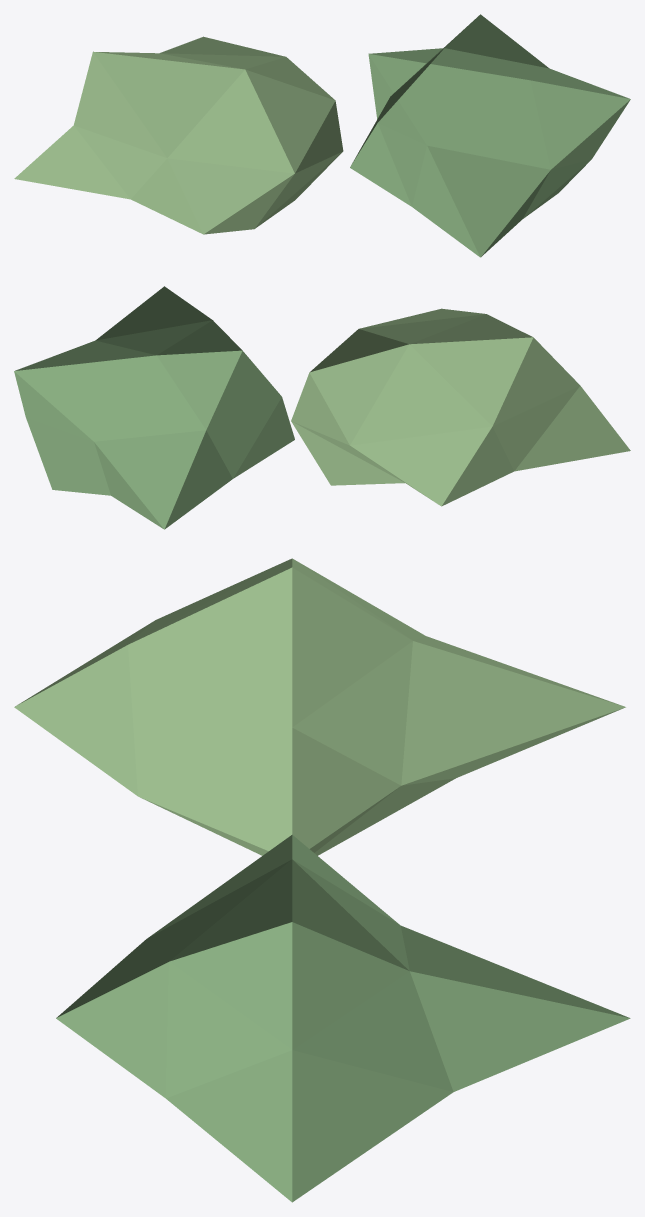
Rendered from shrub_v24.glb.
3 views of the same model, one above another, from view 1: azimuth 30°, elevation 25°; view 2: azimuth 150°, elevation 25°; view 3: azimuth 270°, elevation 25° (orthographic). The views are drawn at different scales.
Parts seen in each view (by area): view 1: lod0; view 2: lod0; view 3: lod0.
Part boxes in pixels (<box>): lod0: <box>14,14,630,257</box>; lod0: <box>14,286,630,529</box>; lod0: <box>14,558,630,1202</box>.
Size of what is drawn, in the model's own units: 1.83 by 0.8163 by 1.05.
